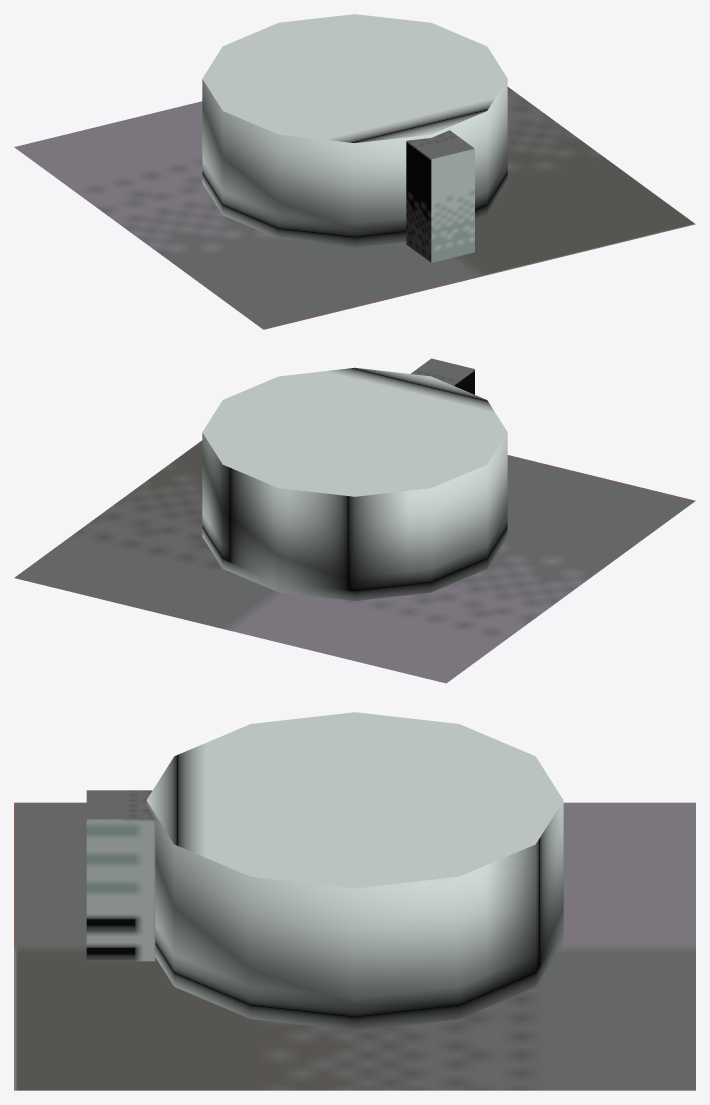
File: Bld_Oil_Drum.fbx
3 renders of one model, top to bottom at view 1: azimuth 30°, elevation 25°; view 2: azimuth 150°, elevation 25°; view 3: azimuth 270°, elevation 25°, orthographic. The views are drawn at different scales.
Parts seen in each view (by area): view 1: BLD_Oildrum; view 2: BLD_Oildrum; view 3: BLD_Oildrum.
Part boxes in pixels (x1,y1,x2,y2): BLD_Oildrum: (14,14,695,329); BLD_Oildrum: (14,358,695,683); BLD_Oildrum: (14,712,695,1090).
Size of the model in its own units: 398 by 398 by 94.98.
